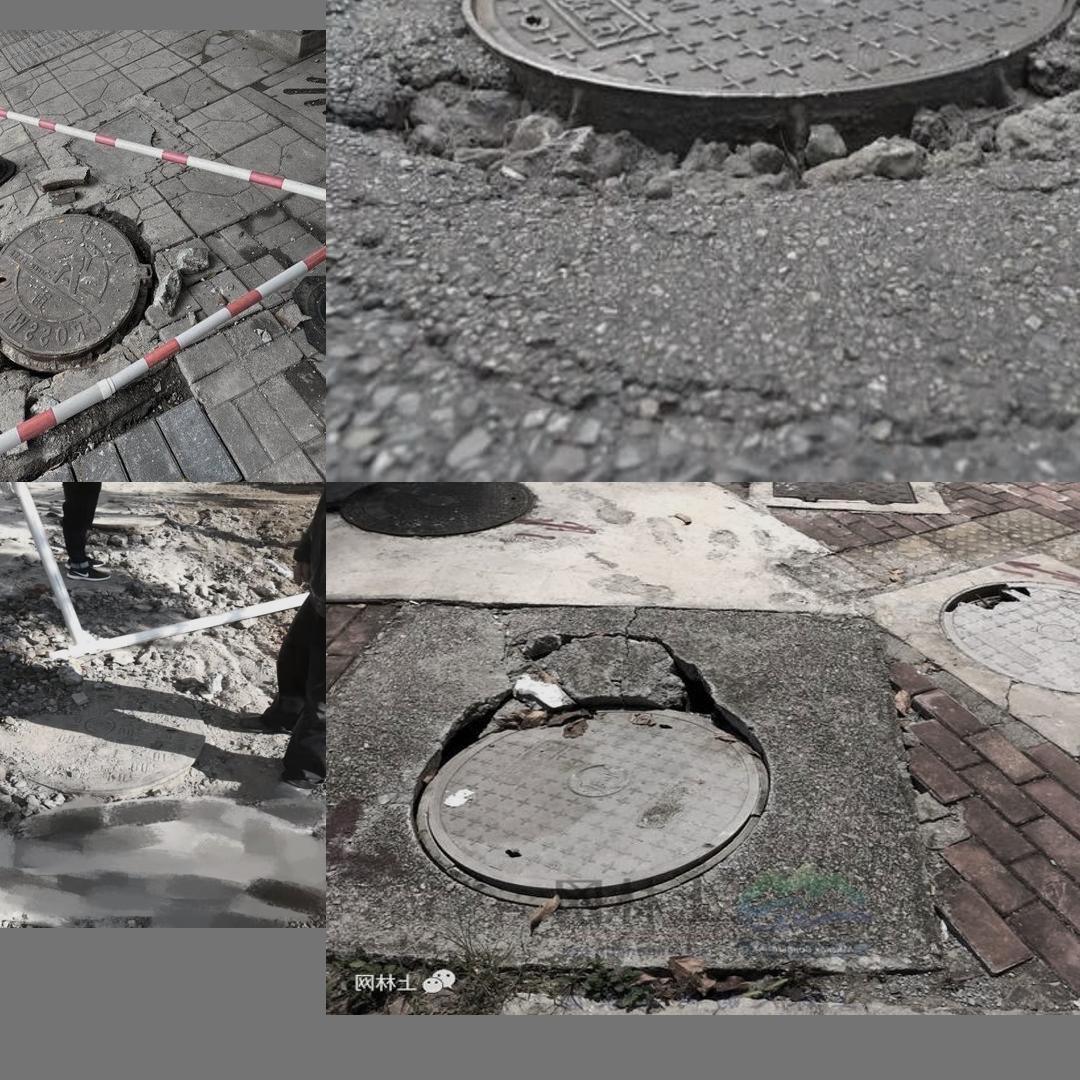circle: (329, 588, 956, 973), (342, 0, 1080, 237), (0, 184, 195, 466), (0, 676, 234, 817)
